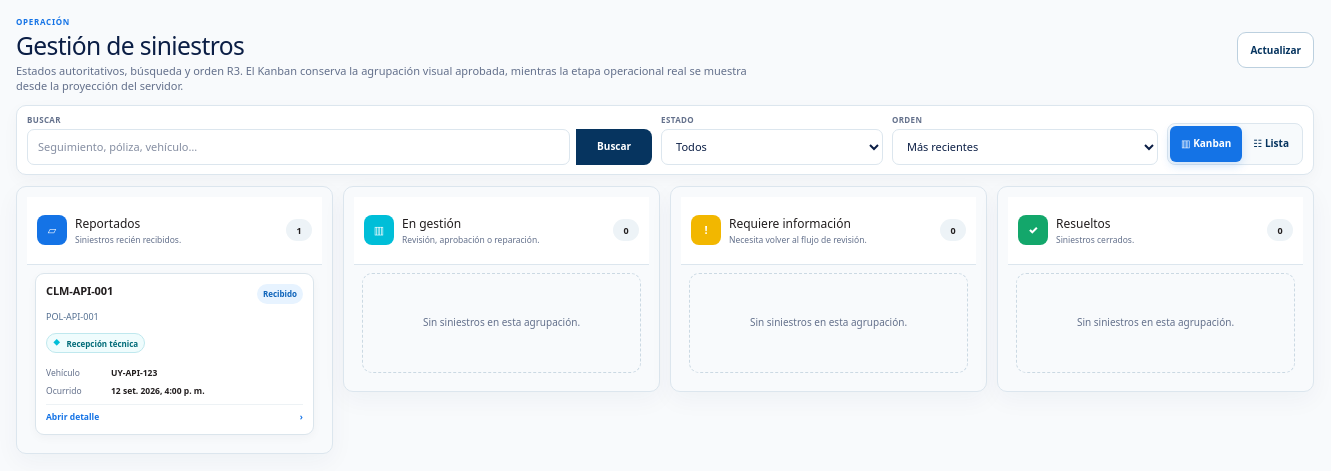
Test case: OperatorClaimsPage R3 workspace › uses the selected status as an API filter and switches to list view
Expected: the text "CLM-API-001" is shown, [46,284,113,298]
Select "Observado" in the dropdown labelled "Estado" at (772, 147), box [661,129,883,165]
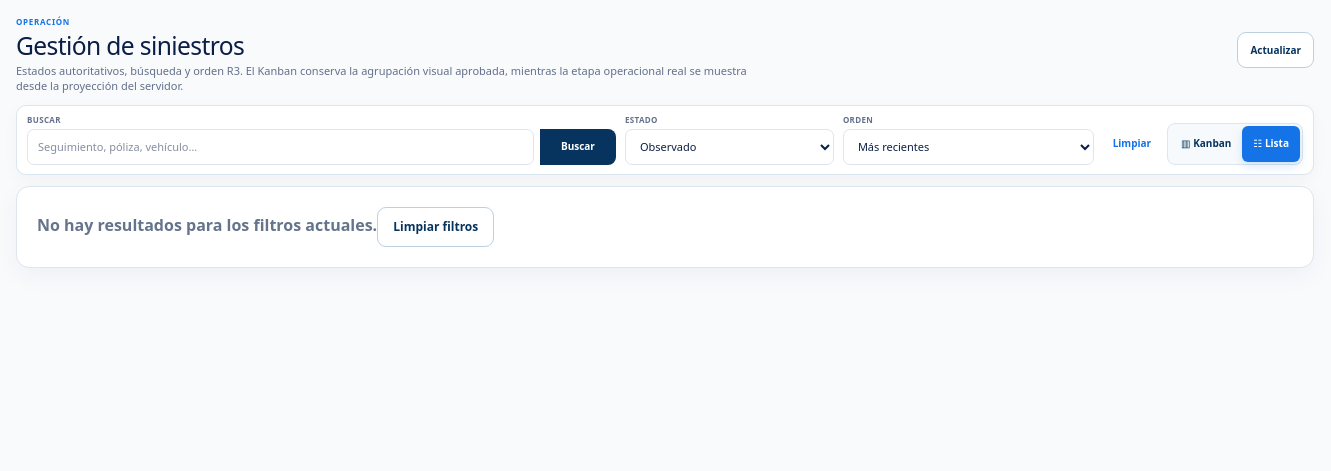
Now the text "No hay resultados para los filtros actuales." is shown, box [37,214,377,236]
